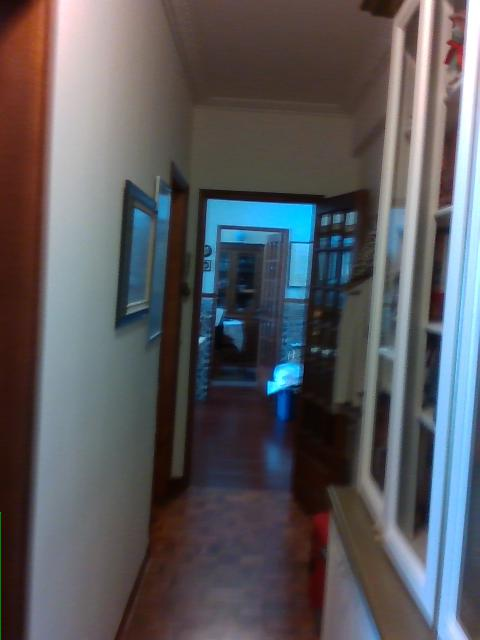door: (289, 189, 374, 515), (258, 232, 284, 394)
